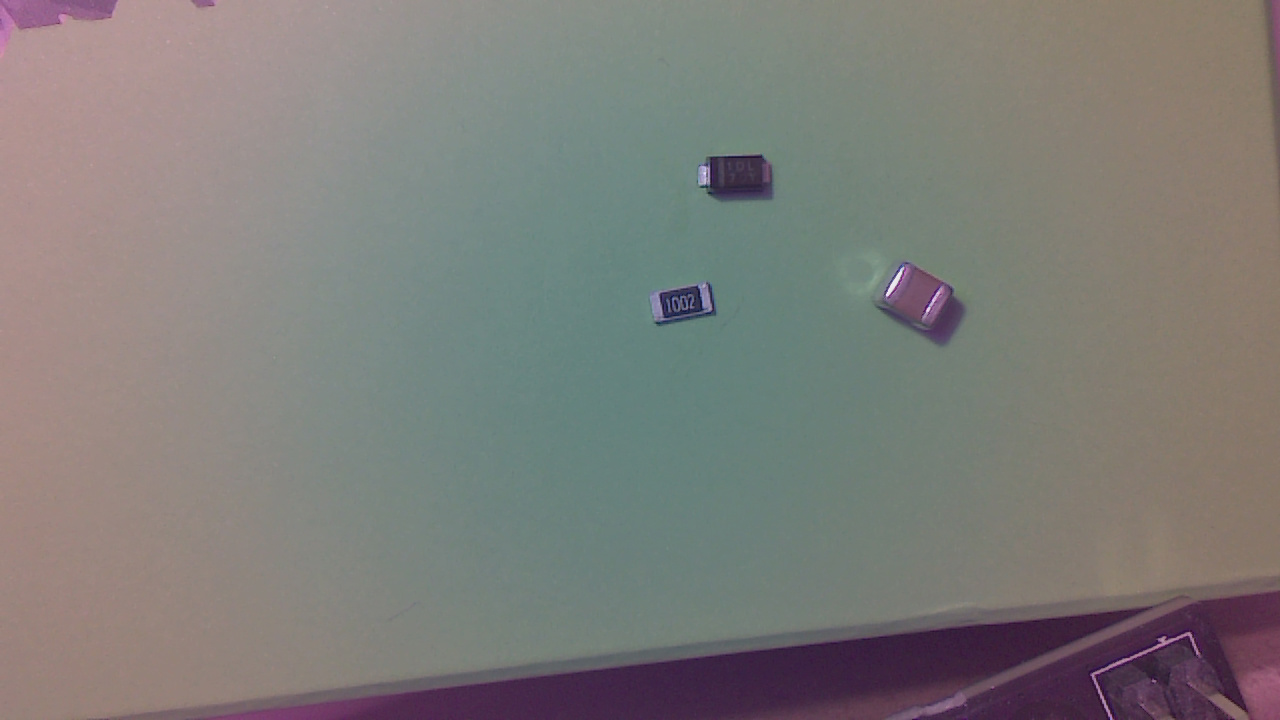Condensator: (882, 267, 960, 344)
Diode: (702, 158, 781, 201)
Resistor: (652, 284, 720, 334)
